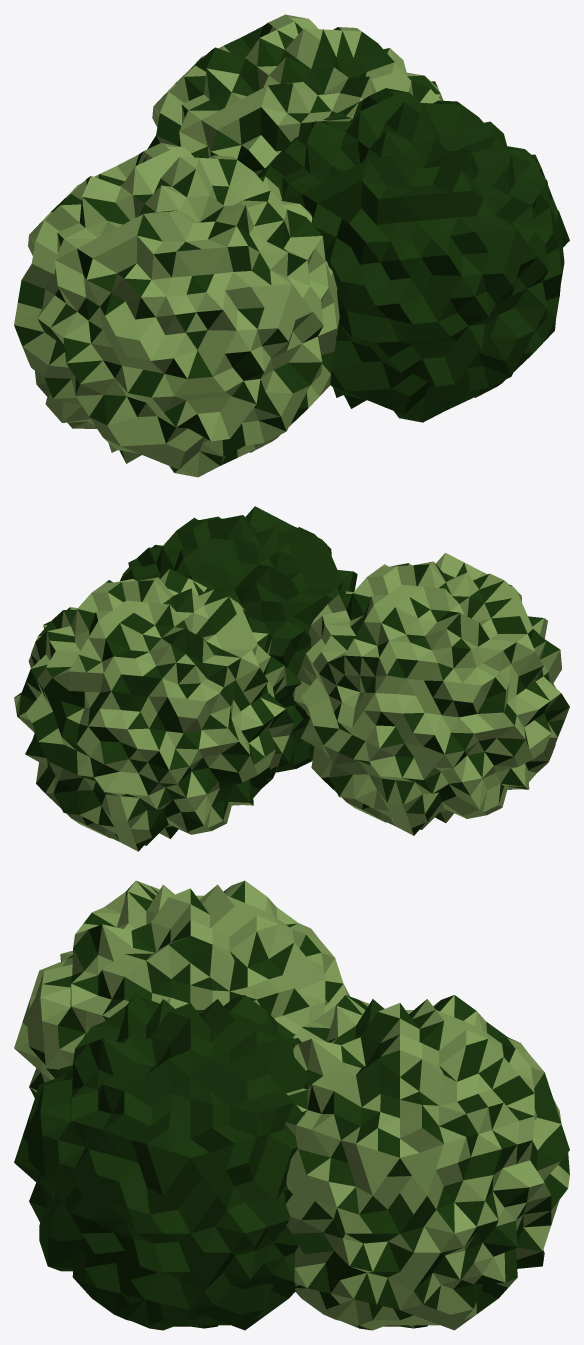
File: Circuito_Arbustos.fbx
3 views of the same model, one above another, from view 1: azimuth 30°, elevation 25°; view 2: azimuth 150°, elevation 25°; view 3: azimuth 270°, elevation 25° (orthographic). The views are drawn at different scales.
Visible parts, largest first — view 1: Icosphere.009, Icosphere.010, Icosphere.011; view 2: Icosphere.011, Icosphere.009, Icosphere.010; view 3: Icosphere.011, Icosphere.010, Icosphere.009.
Part boxes in pixels (bbox=[...]): Icosphere.009: bbox=[14, 143, 339, 477]; Icosphere.010: bbox=[258, 88, 569, 422]; Icosphere.011: bbox=[147, 14, 443, 175]; Icosphere.011: bbox=[14, 568, 294, 851]; Icosphere.009: bbox=[292, 552, 569, 835]; Icosphere.010: bbox=[120, 506, 357, 772]; Icosphere.011: bbox=[285, 995, 569, 1330]; Icosphere.010: bbox=[14, 995, 310, 1330]; Icosphere.009: bbox=[14, 880, 349, 1097].
Size of the model in its own units: 347 by 198 by 318.
